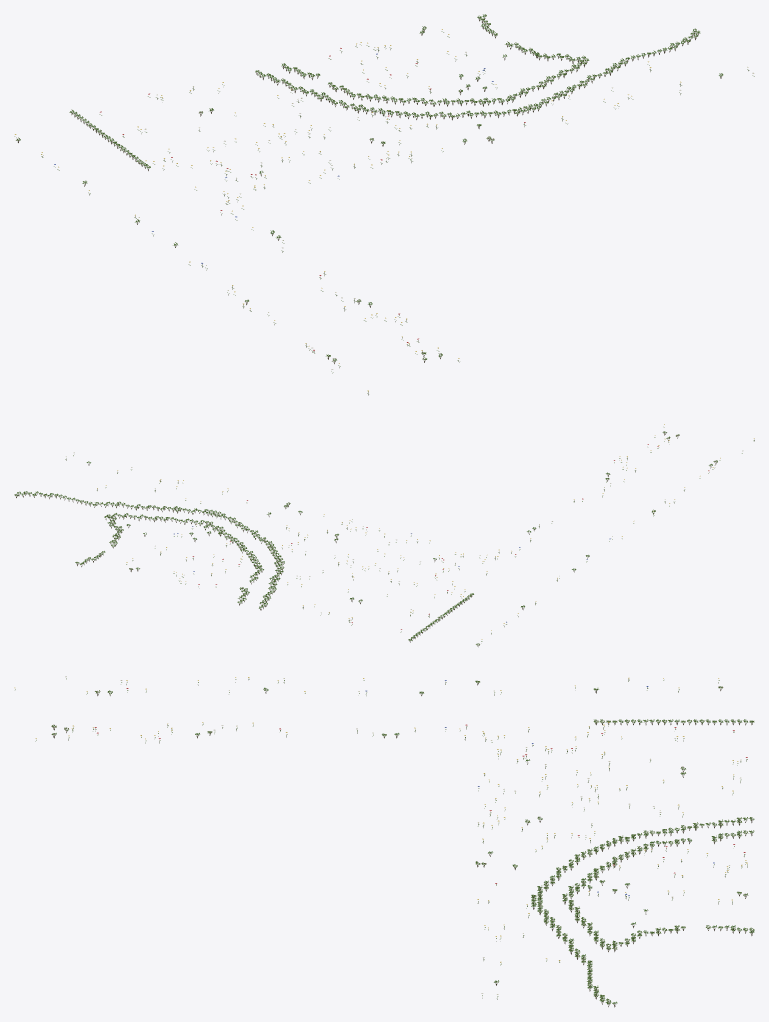
3 views of the same model, one above another, from view 1: azimuth 30°, elevation 25°; view 2: azimuth 150°, elevation 25°; view 3: azimuth 270°, elevation 25° (orthographic). The views are drawn at different scales.
Parts seen in each view (by area): view 1: GROUND_FLORA_s_-8_3; view 2: GROUND_FLORA_s_-8_3; view 3: GROUND_FLORA_s_-8_3.
Part boxes in pixels (left/top/right/bottom): GROUND_FLORA_s_-8_3: left=14, top=14, right=754, bottom=395; GROUND_FLORA_s_-8_3: left=14, top=424, right=754, bottom=646; GROUND_FLORA_s_-8_3: left=14, top=676, right=754, bottom=1007.
Bounding box in the file's own units: 120 × 2.91 × 119.
